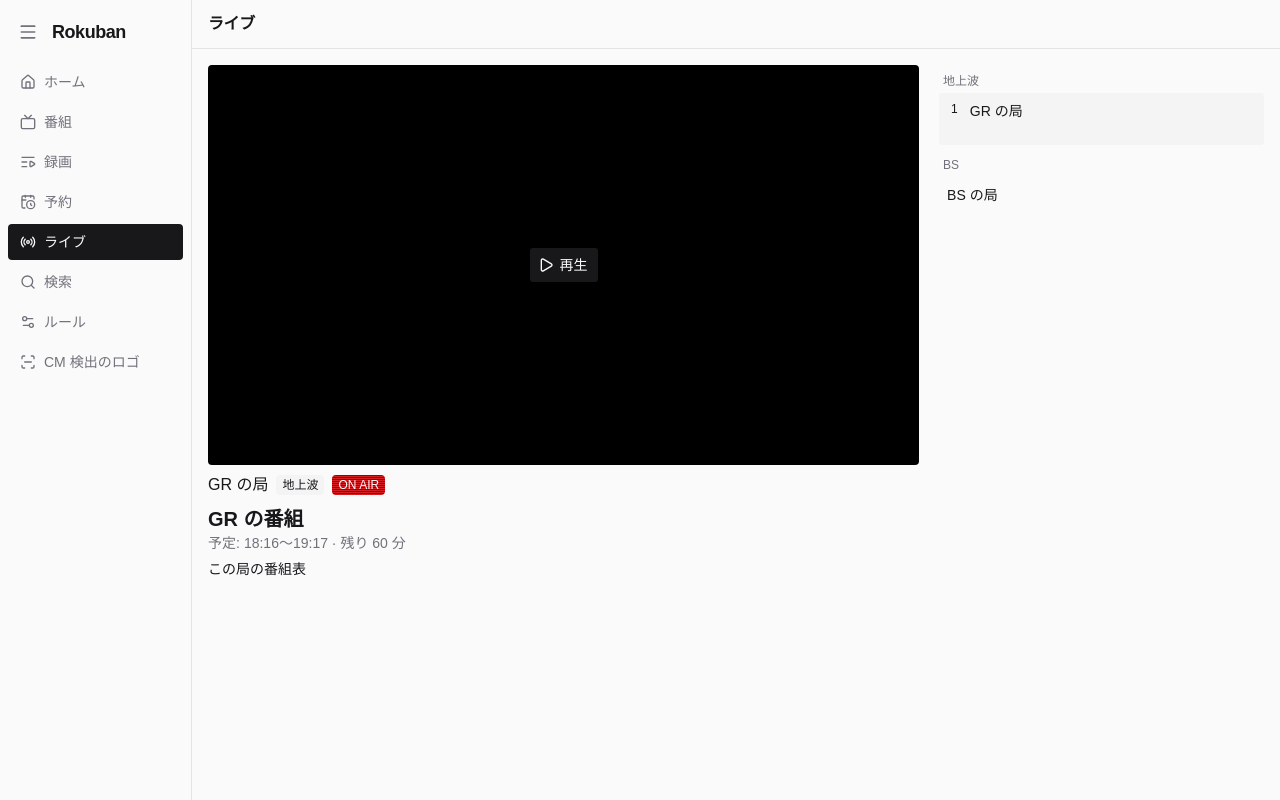
Test: LivePage › 同じ serviceId を持つサービスが複数 network に存在するとき（issue #291） › 再生中に同じ serviceId の別 network へ切り替えると選択状態に戻る
Expected: the text "GR の番組" is shown, [208,508,304,530]
Click the button "再生" at (251, 265), box [208,65,919,465]
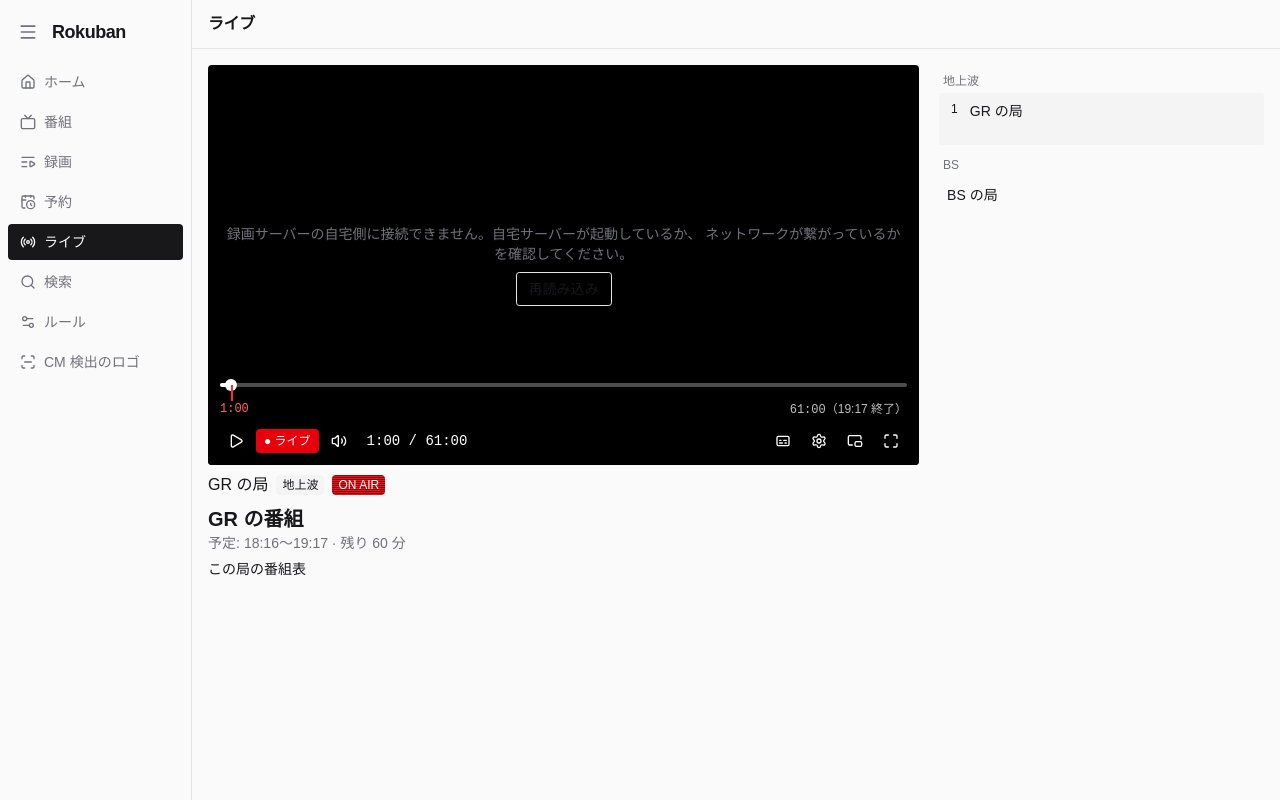
Now the text "録画サーバーの自宅側に接続できません。自宅サーバーが起動しているか、 ネットワークが繋がっているかを確認してください。" is shown, box [224,224,903,264]
Click the link "BS の局" at (972, 195), box [947,187,998,203]
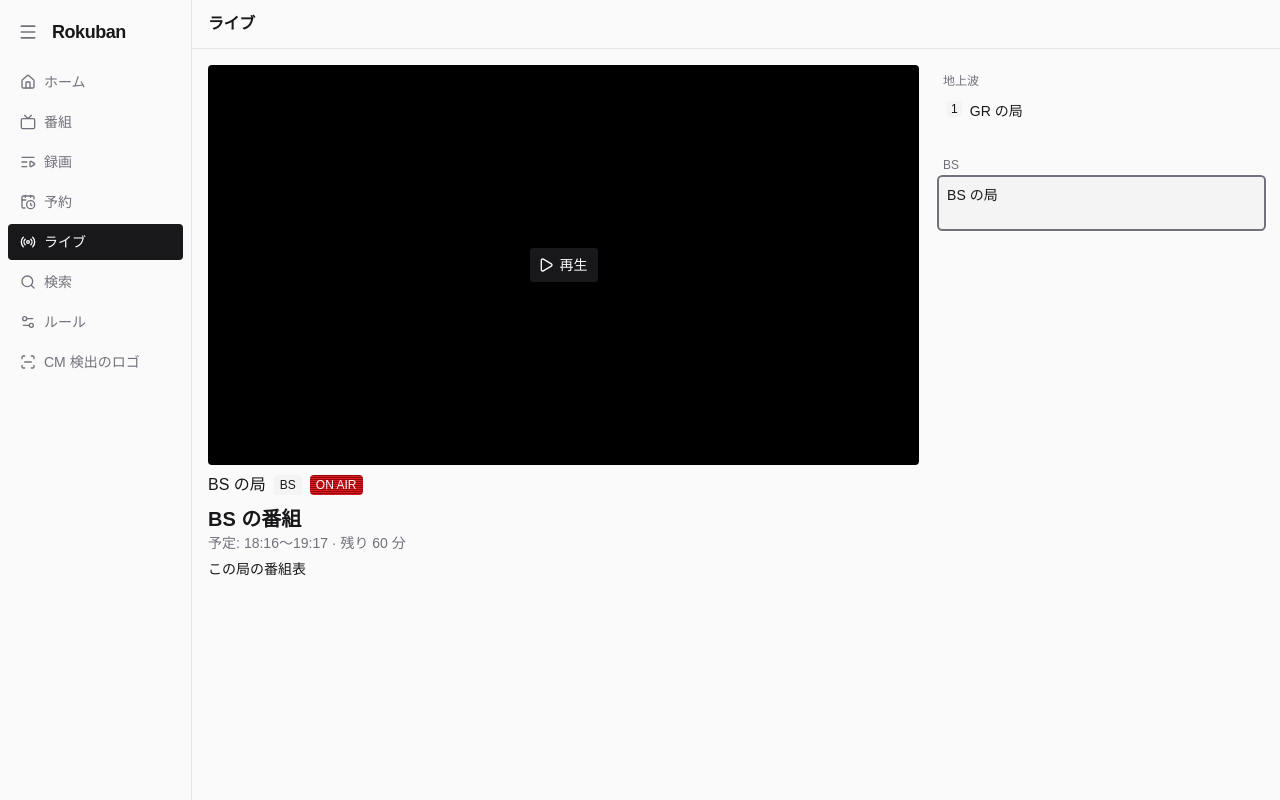
Now the text "BS の番組" is shown, box [208,508,301,530]
Now the button "再生" is shown, box [208,65,919,465]
Now the text "接続できません" is gone
